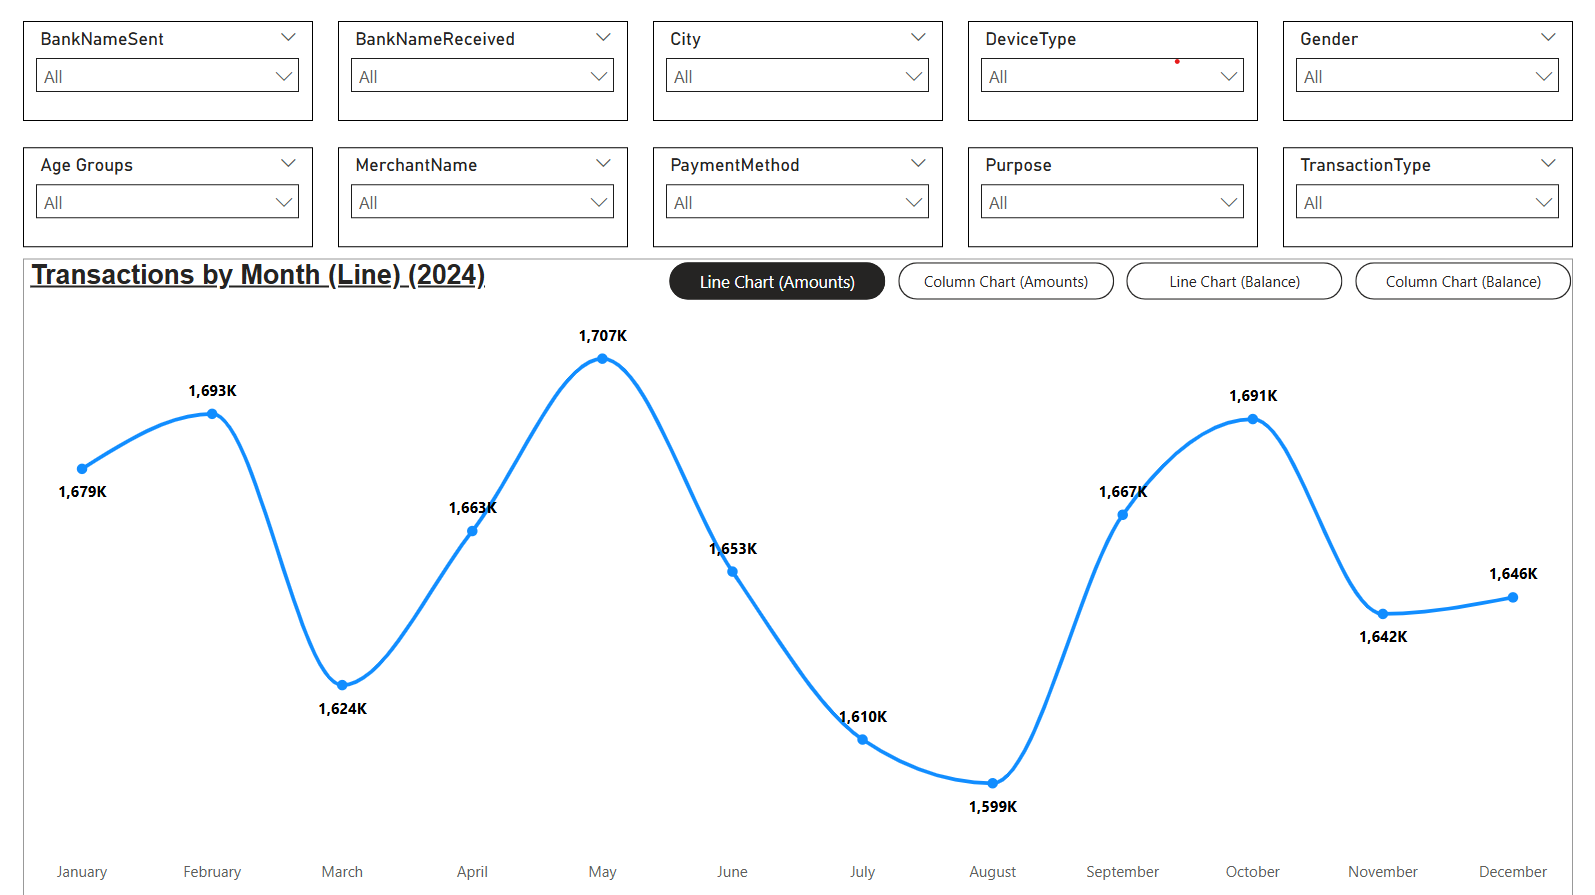

Layout of this report page (visuals, bound fields, positions):
{"tool":"powerbi","page":{"name":"Page 1","canvas":[1280,720],"ordinal":0},"visuals":[{"type":"slicer","fields":{"Values":["UPI Transactions.BankNameSent"]},"box":[20,20,232,80],"z":0},{"type":"slicer","fields":{"Values":["UPI Transactions.BankNameReceived"]},"box":[272,20,232,80],"z":1000},{"type":"slicer","fields":{"Values":["UPI Transactions.City"]},"box":[524,20,232,80],"z":2000},{"type":"slicer","fields":{"Values":["UPI Transactions.DeviceType"]},"box":[776,20,232,80],"z":3000},{"type":"slicer","fields":{"Values":["UPI Transactions.Gender"]},"box":[1028,20,232,80],"z":4000},{"type":"slicer","fields":{"Values":["UPI Transactions.Age Groups"]},"box":[19.8,121.3,232,80],"z":5000},{"type":"slicer","fields":{"Values":["UPI Transactions.MerchantName"]},"box":[271.8,121.3,232,80],"z":6000},{"type":"slicer","fields":{"Values":["UPI Transactions.PaymentMethod"]},"box":[523.8,121.3,232,80],"z":7000},{"type":"slicer","fields":{"Values":["UPI Transactions.Purpose"]},"box":[775.8,121.3,232,80],"z":8000},{"type":"slicer","fields":{"Values":["UPI Transactions.TransactionType"]},"box":[1027.8,121.3,232,80],"z":9000},{"type":"lineChart","title":"Transactions by Month (Line) (2024)","fields":{"Category":["UPI Transactions.TransactionDate.Variation.Date Hierarchy.Month"],"Y":["Sum(UPI Transactions.Amount)"]},"box":[19.9,210.2,1240,509.9],"z":10000},{"type":"bookmarkNavigator","box":[537.3,212.7,723.8,29.8],"z":14500}]}

Visuals, with their boxes in screenshot pixels (x1, y1, x2, y2), scaled from the page's 1280x720 canvas onto the 1595x895 screenshot:
slicer - UPI Transactions.BankNameSent: (25, 25, 314, 124)
slicer - UPI Transactions.BankNameReceived: (339, 25, 628, 124)
slicer - UPI Transactions.City: (653, 25, 942, 124)
slicer - UPI Transactions.DeviceType: (967, 25, 1256, 124)
slicer - UPI Transactions.Gender: (1281, 25, 1570, 124)
slicer - UPI Transactions.Age Groups: (25, 151, 314, 250)
slicer - UPI Transactions.MerchantName: (339, 151, 628, 250)
slicer - UPI Transactions.PaymentMethod: (653, 151, 942, 250)
slicer - UPI Transactions.Purpose: (967, 151, 1256, 250)
slicer - UPI Transactions.TransactionType: (1281, 151, 1570, 250)
"Transactions by Month (Line) (2024)" lineChart: (25, 261, 1570, 894)
bookmarkNavigator: (670, 264, 1571, 301)
